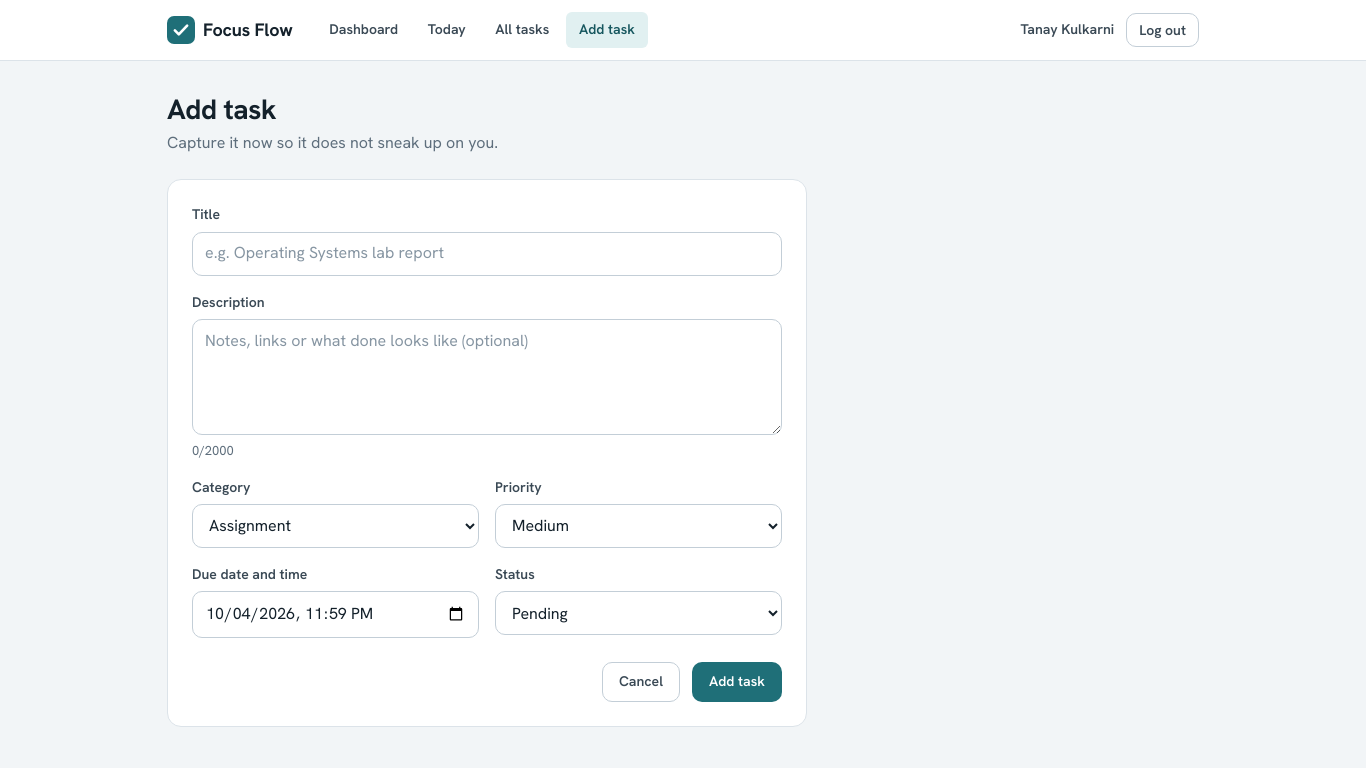
Test: add and edit task › shows server-side field errors from the API
The width and height of the screenshot is (1366, 768).
Type "Anything" into the field labelled "Title" at (487, 254), box top-left (192, 232), bottom-right (782, 276)
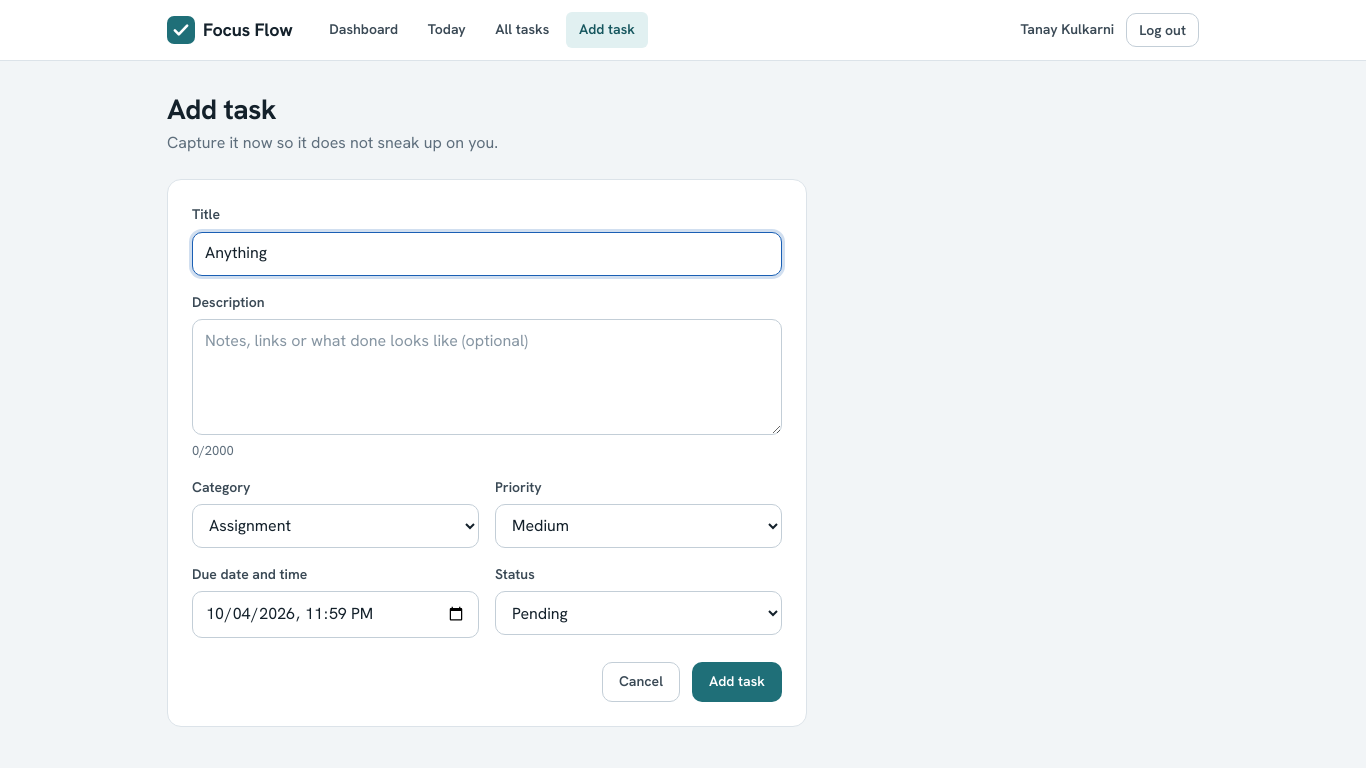
Click the button "Add task" at (737, 682), box top-left (692, 662), bottom-right (782, 702)
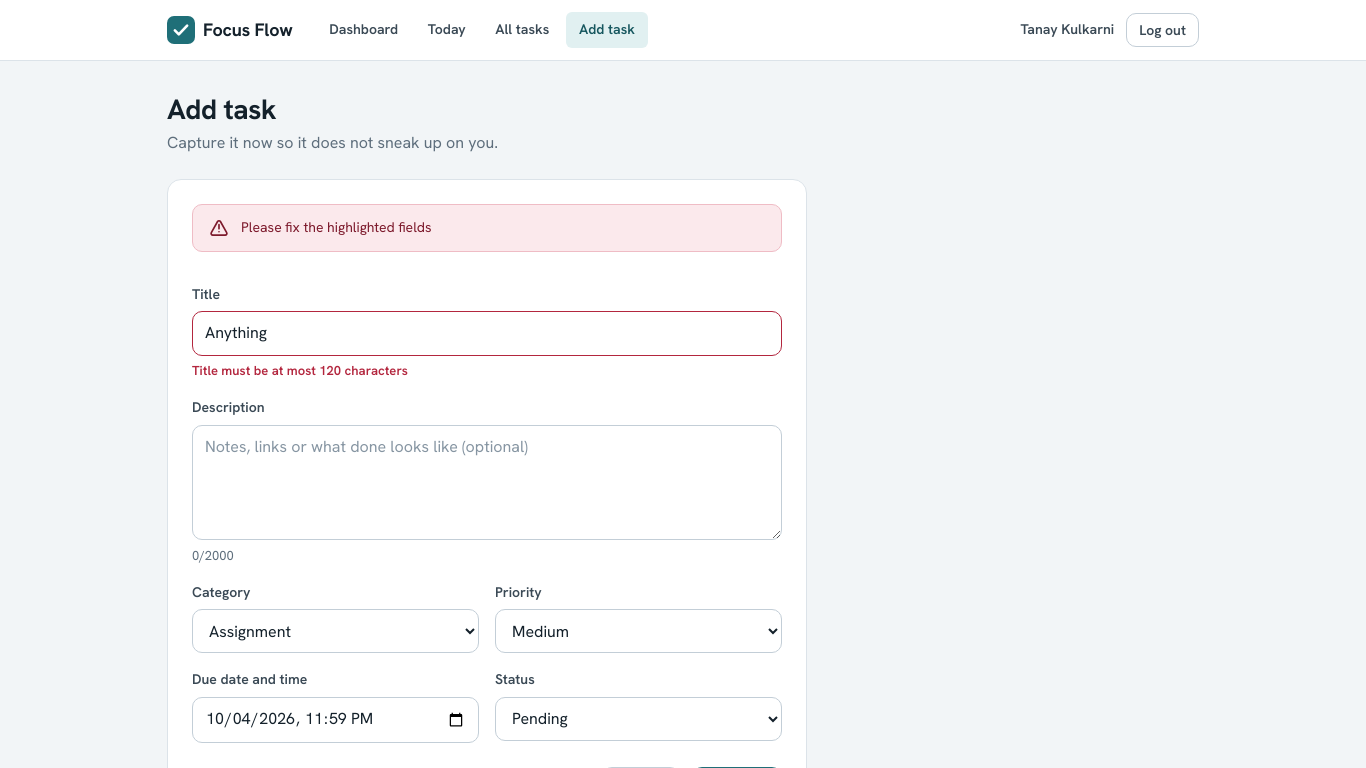
Check: the text "Title must be at most 120 characters" is shown, box top-left (192, 362), bottom-right (408, 379)
